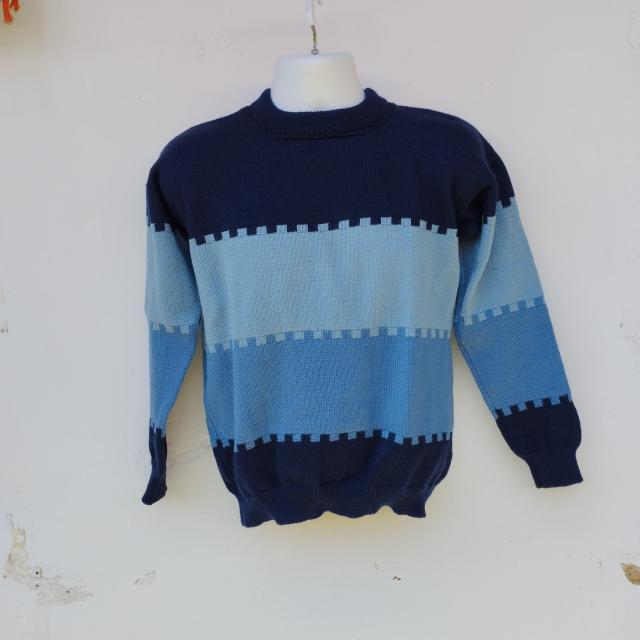Chompa: (141, 54, 583, 527)
